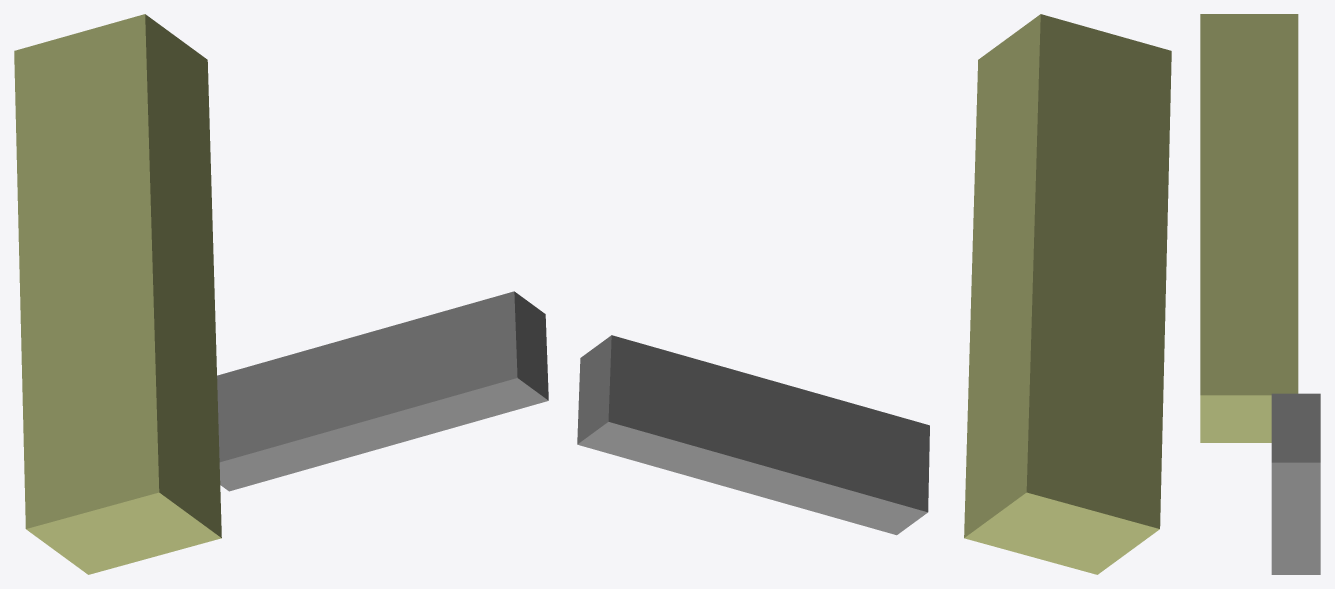
The picture shows the model from 3 angles, left to right: view 1: azimuth 30°, elevation 25°; view 2: azimuth 150°, elevation 25°; view 3: azimuth 270°, elevation 25°; orthographic projection. The views are drawn at different scales.
Parts seen in each view (by area): view 1: 0_2_1_0_0_3_3_0_3; view 2: 0_2_1_0_0_3_3_0_3; view 3: 0_2_1_0_0_3_3_0_3.
Part boxes in pixels (left/top/right/bottom): 0_2_1_0_0_3_3_0_3: left=14, top=14, right=548, bottom=574; 0_2_1_0_0_3_3_0_3: left=577, top=14, right=1171, bottom=574; 0_2_1_0_0_3_3_0_3: left=1200, top=14, right=1320, bottom=574.
Bounding box in the file's own units: 28.65 × 25.71 × 7.37.
